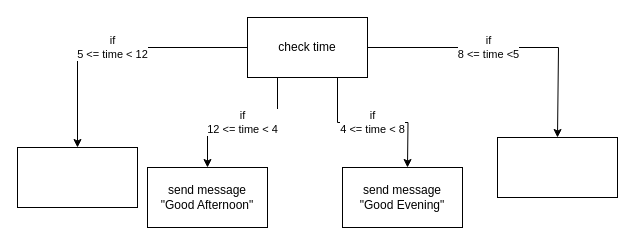
Some shapes in this 635 by 245 pixel diagram are drawn without their labels. The centre of each missing label's shape, as x and y in pixels:
send message "Good Morning": pixel 77 177
send message "Good Night": pixel 557 167
